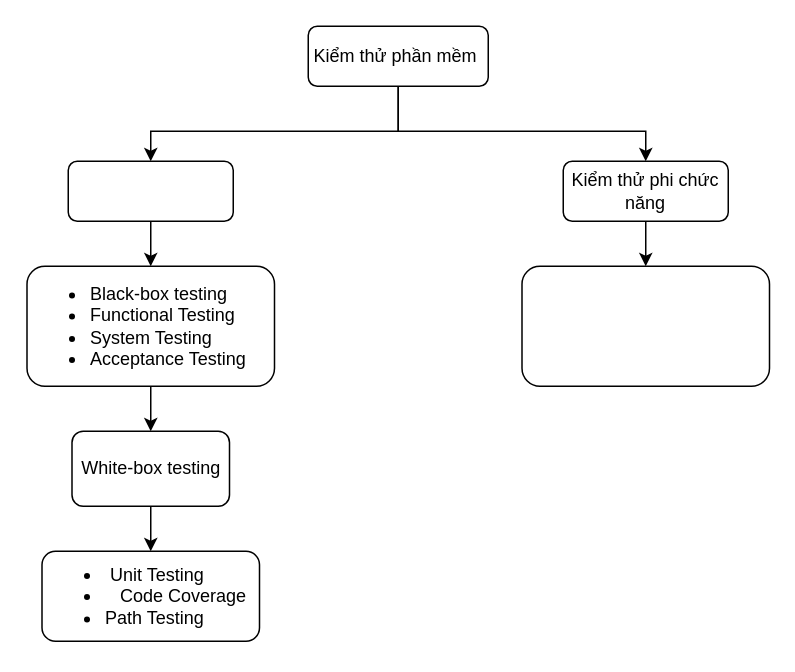
Some shapes in this 795 by 672 pixel diagram are drawn without their labels. Here are the shapes that lost their labels. From the top down, the centre of each, then its label:
At point (150, 190): "Kiểm thử chức năng".
At point (645, 325): "Performance Testing Security Testing Usability Testing Compatibility Testing".
